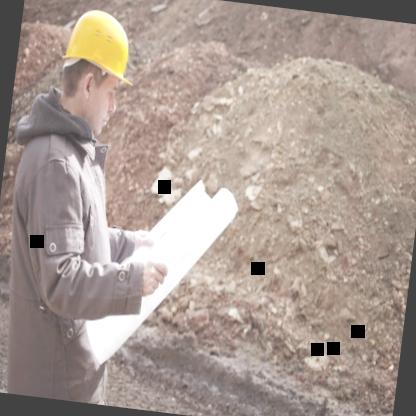helmet: (44, 0, 151, 146)
